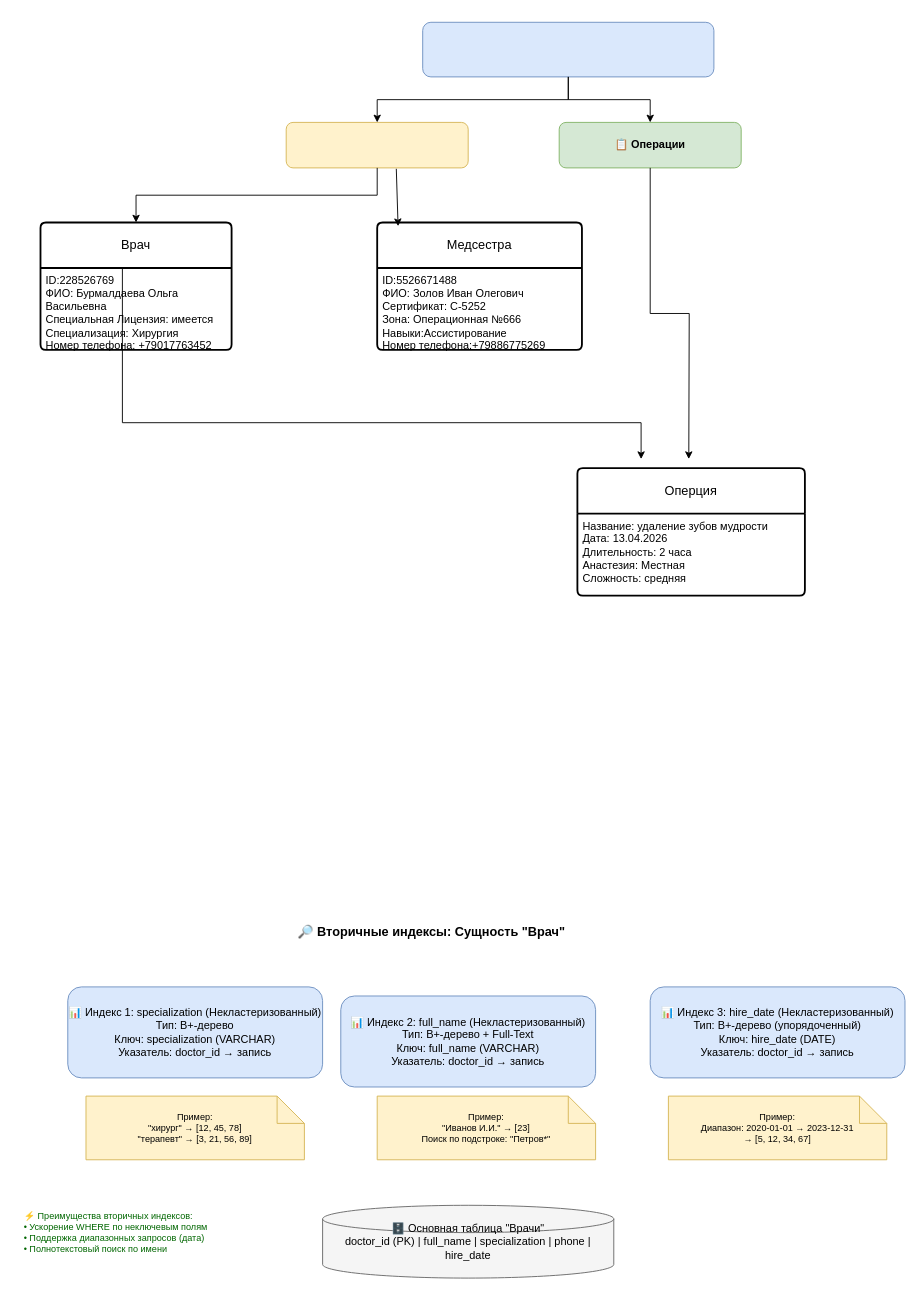
Image size: 921x1294. Some labels were removed from this diagram. The centre of each missing label's shape, as x and y in pixels:
"🏥 Стоматологическое отделение" belongs at (x=568, y=49).
"👥 Медицинский персонал" belongs at (x=376, y=144).
